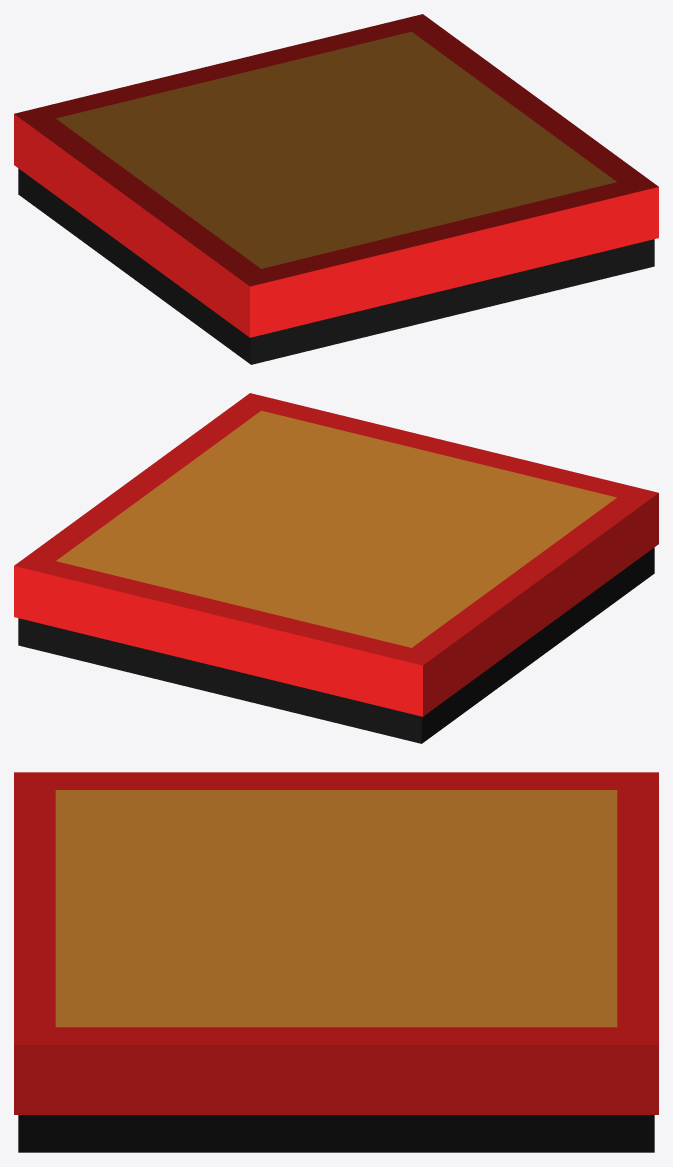
Rendered from Steak.fbx.
The picture shows the model from 3 angles, top to bottom: view 1: azimuth 30°, elevation 25°; view 2: azimuth 150°, elevation 25°; view 3: azimuth 270°, elevation 25°; orthographic projection. The views are drawn at different scales.
Visible parts, largest first — view 1: Node 0; view 2: Node 0; view 3: Node 0.
Boxes of the visible parts, x1,y1,x2,y2 form: Node 0: [14, 14, 658, 364]; Node 0: [14, 393, 658, 743]; Node 0: [14, 772, 658, 1152].
Bounding box in the file's own units: 0.165 × 0.0309 × 0.165.
